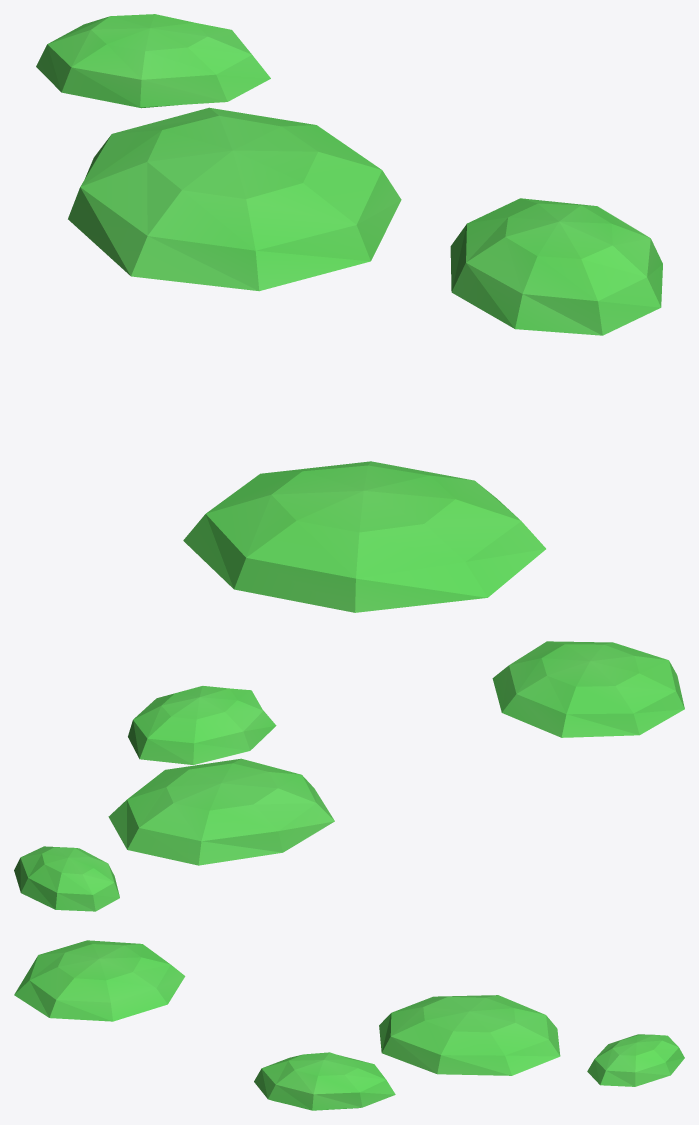
File: moss_patch_v1.glb
3 renders of one model, top to bottom at view 1: azimuth 30°, elevation 25°; view 2: azimuth 150°, elevation 25°; view 3: azimuth 270°, elevation 25°, orthographic. The views are drawn at different scales.
Visible parts, largest first — view 1: moss_patch_v1.glb; view 2: moss_patch_v1.glb; view 3: moss_patch_v1.glb.
Boxes of the visible parts, x1=… form: moss_patch_v1.glb: x1=36, y1=14, x2=662, y2=612; moss_patch_v1.glb: x1=14, y1=641, x2=684, y2=911; moss_patch_v1.glb: x1=14, y1=940, x2=684, y2=1110.
Bounding box in the file's own units: 0.5639 × 0.0623 × 1.
